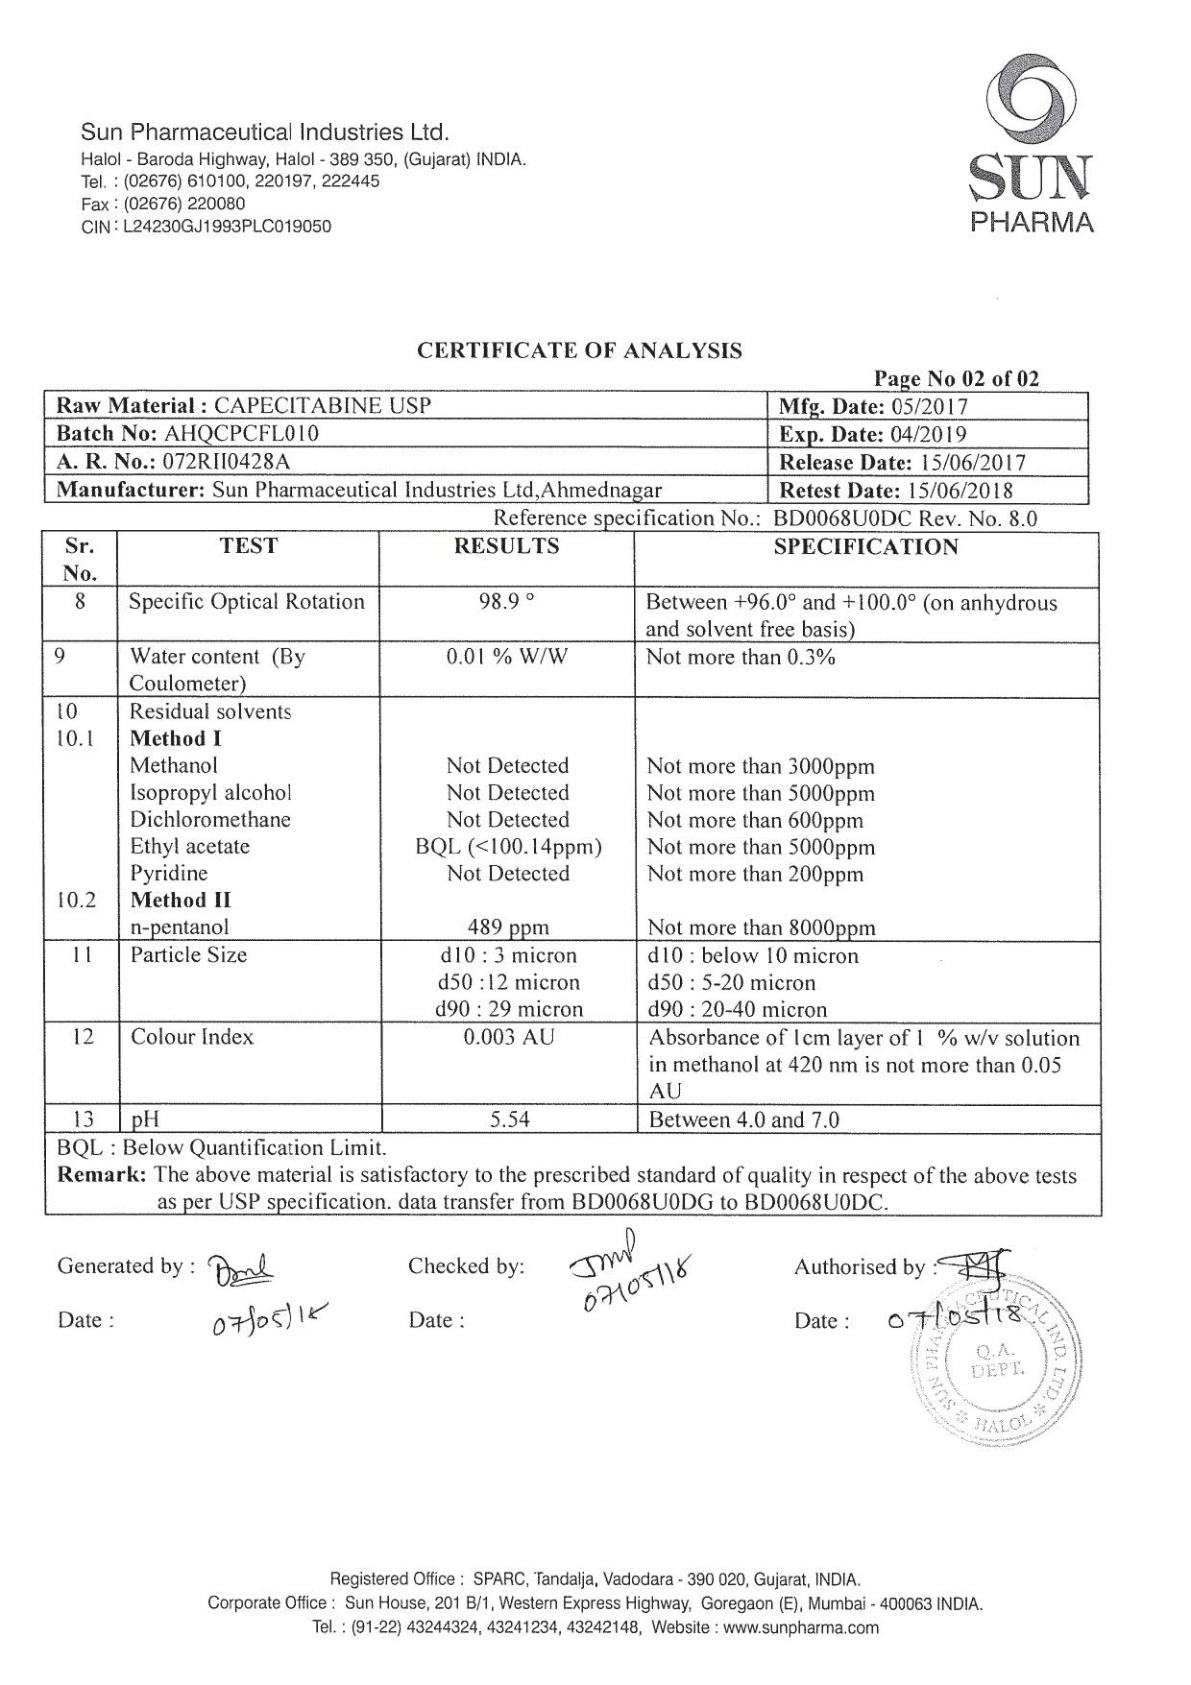full_lined: (43, 389, 1090, 505)
merged_cells: (40, 529, 1105, 1220)
